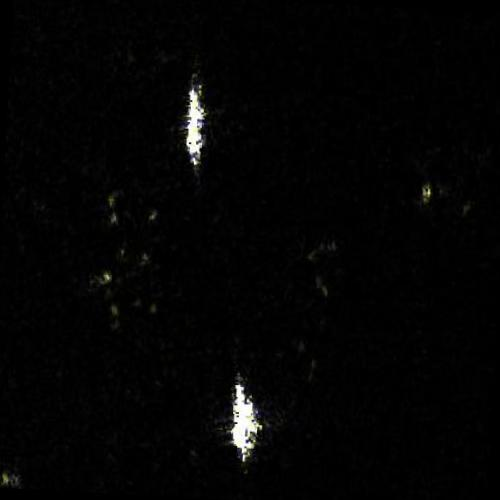ship: (232, 379, 257, 460), (185, 84, 205, 167)
